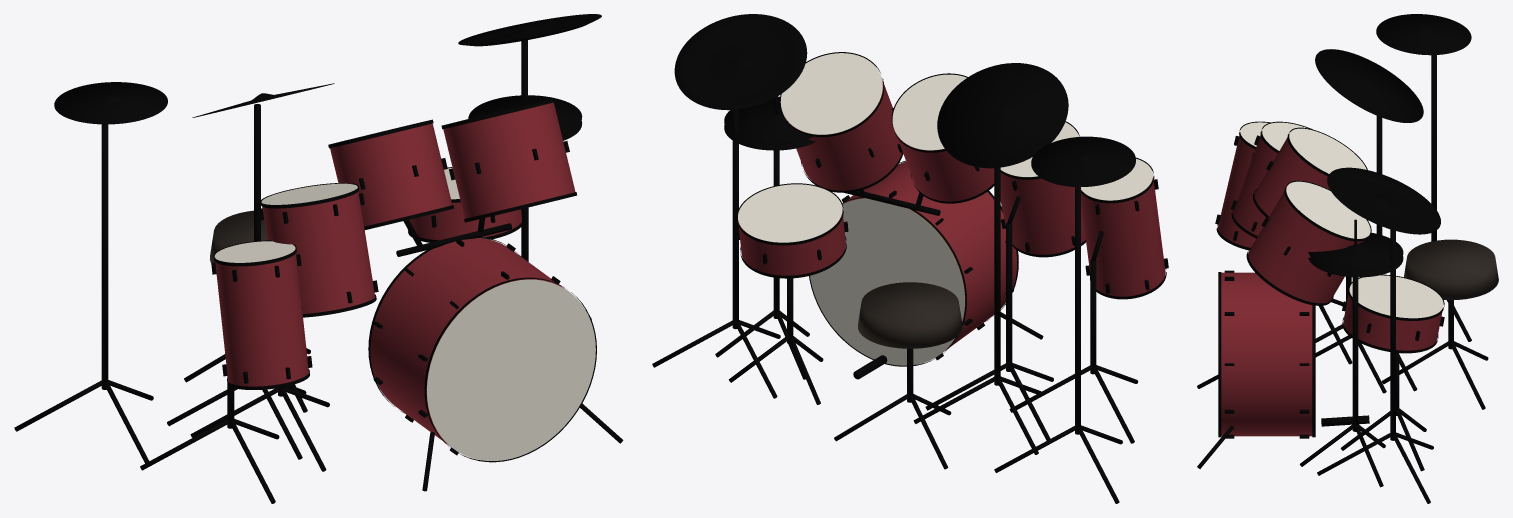
The model's file is drums-bowl.glb.
3 views of the same model, side by side, from view 1: azimuth 30°, elevation 25°; view 2: azimuth 150°, elevation 25°; view 3: azimuth 270°, elevation 25° (orthographic). The views are drawn at different scales.
Parts seen in each view (by area): view 1: drums-bowl; view 2: drums-bowl; view 3: drums-bowl.
Boxes of the visible parts, x1=… form: drums-bowl: x1=14, y1=14, x2=623, y2=503; drums-bowl: x1=652, y1=14, x2=1168, y2=503; drums-bowl: x1=1197, y1=14, x2=1498, y2=503.
Bounding box in the file's own units: 1.92 × 1.26 × 1.12.
1 material, 1 textured.
